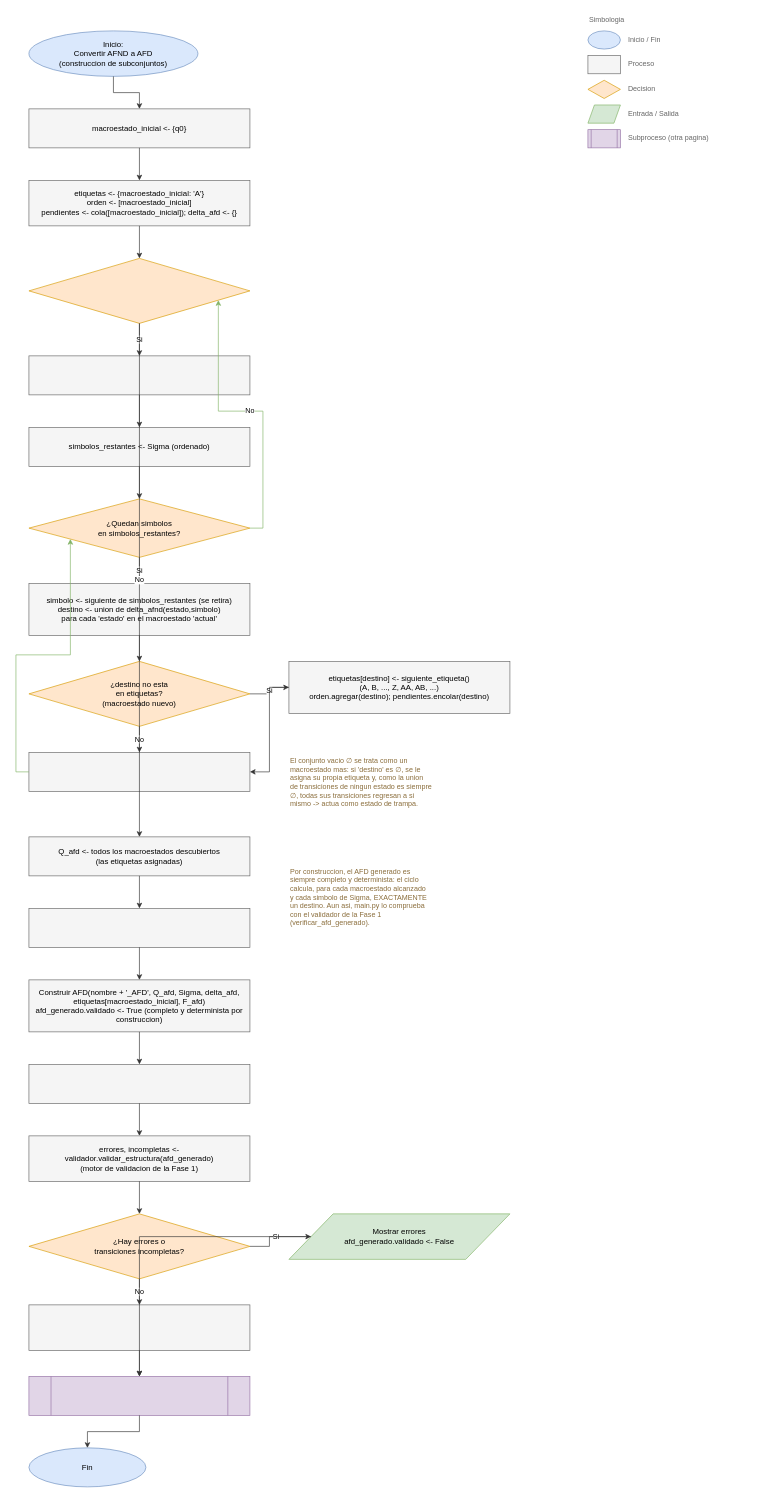
Image size: 781x1498. Some labels were removed from this diagram. The shapes that lost their labels are listed below. From the top down, each one's box as (x1, y1, x2, y2) in pixels, then its label:
(28, 258, 250, 323): ¿pendientes no esta vacia?
(28, 355, 250, 395): actual <- pendientes.sacar_primero()
(28, 752, 250, 791): delta_afd[(etiquetas[actual], simbolo)] <- etiquetas[destino]
(28, 908, 250, 947): F_afd <- { etiquetas[s] : s en orden, s interseccion F_afnd no vacia }
(28, 1064, 250, 1103): tabla_equivalencias <- { etiquetas[s]: s para cada s en orden }
(28, 1304, 250, 1350): afd_generado.validado <- True Mostrar analisis estructural del AFD generado
(28, 1376, 250, 1415): Subproceso: Regresar a Flujo Principal
